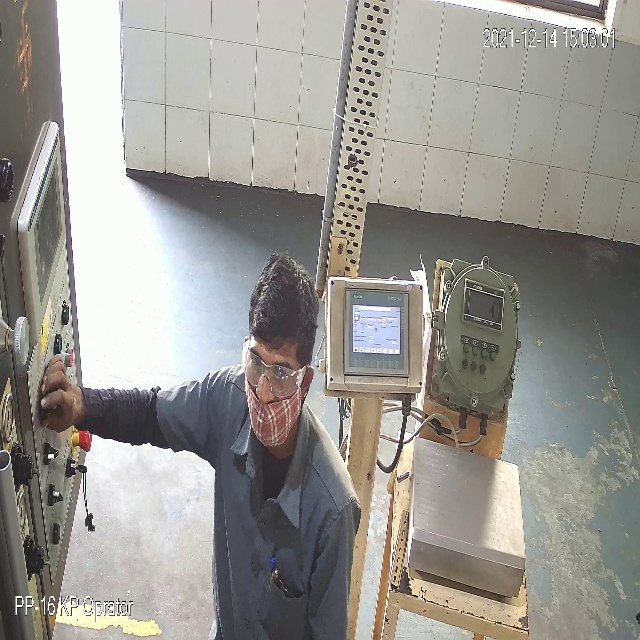Gafas: (242, 349, 314, 397)
